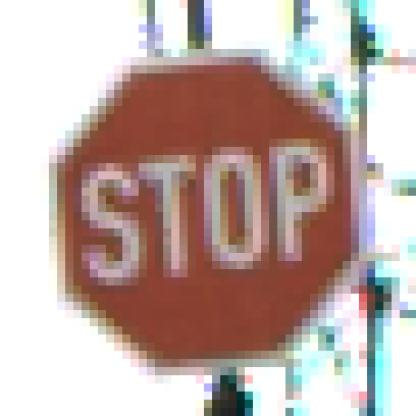stop: (43, 48, 372, 368)
